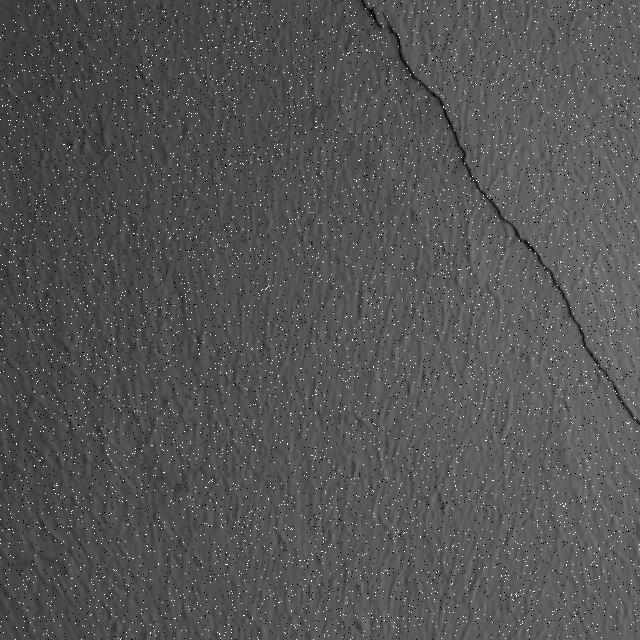moderate crack: (431, 126, 632, 439), (358, 4, 442, 108), (414, 95, 483, 198)
